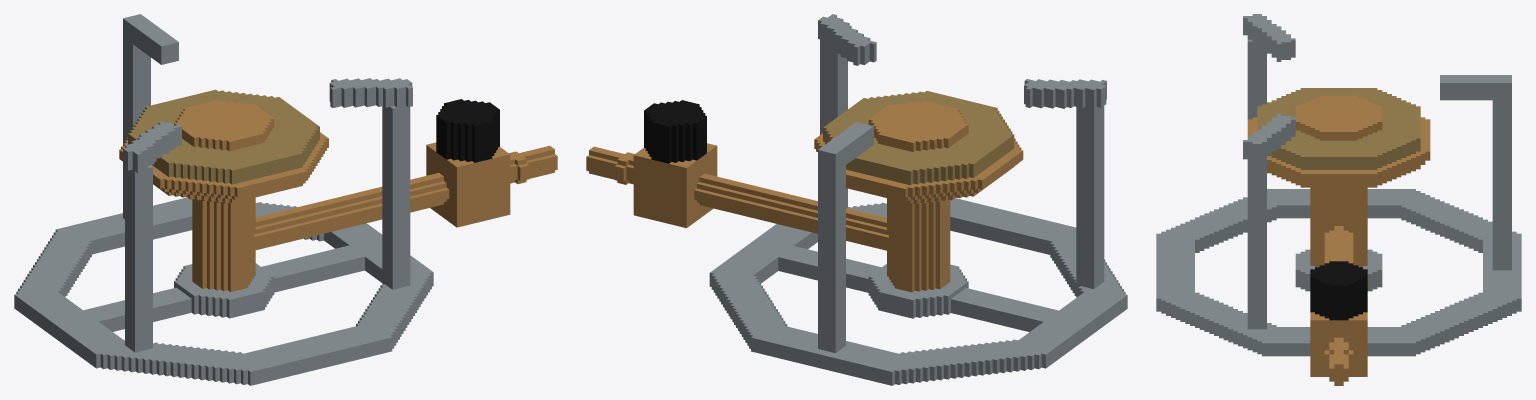
File: acetylene_cooker.glb
The picture shows the model from 3 angles, left to right: view 1: azimuth 30°, elevation 25°; view 2: azimuth 150°, elevation 25°; view 3: azimuth 270°, elevation 25°; orthographic projection. The views are drawn at different scales.
Visible parts, largest first — view 1: acetylene_cooker:compound; view 2: acetylene_cooker:compound; view 3: acetylene_cooker:compound.
Part boxes in pixels (x1,y1,x2,y2): acetylene_cooker:compound: [14, 14, 557, 385]; acetylene_cooker:compound: [586, 14, 1127, 385]; acetylene_cooker:compound: [1156, 14, 1521, 385].
Size of the model in its own units: 0.224 by 0.092 by 0.152.
